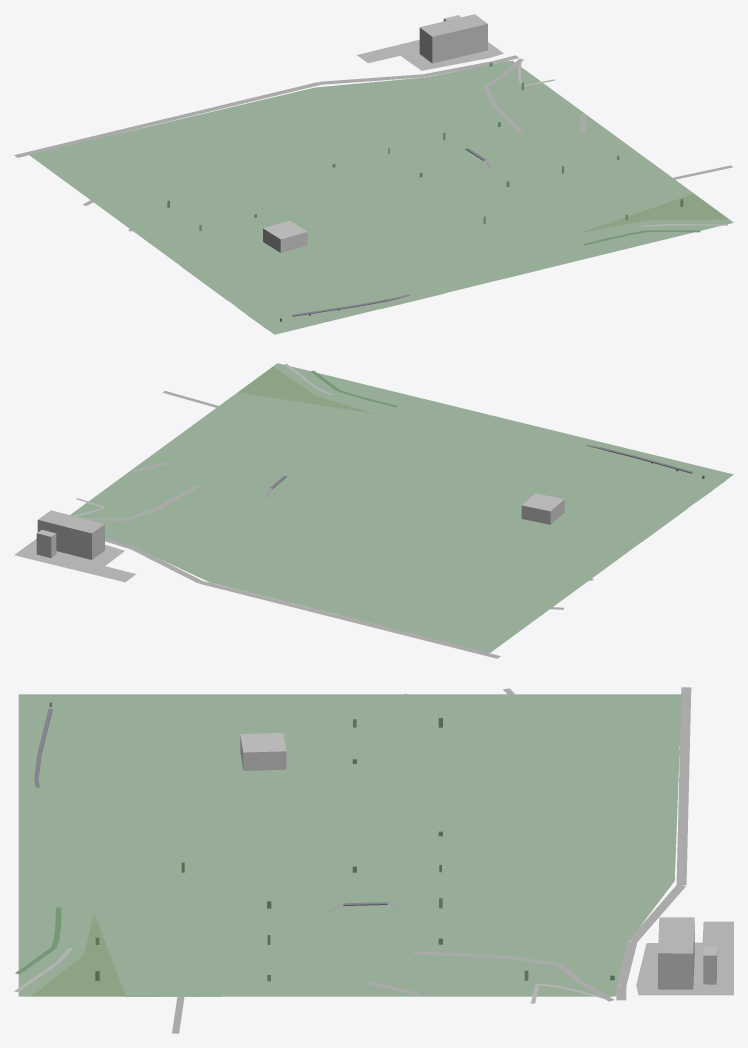
3 views of the same model, one above another, from view 1: azimuth 30°, elevation 25°; view 2: azimuth 150°, elevation 25°; view 3: azimuth 270°, elevation 25° (orthographic). The views are drawn at different scales.
Size of the model in its own units: 574 by 29.95 by 503.
